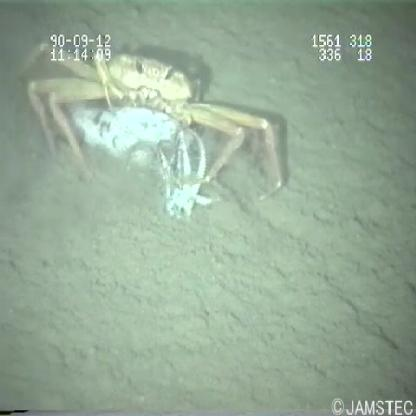Bio: (14, 37, 288, 222)
